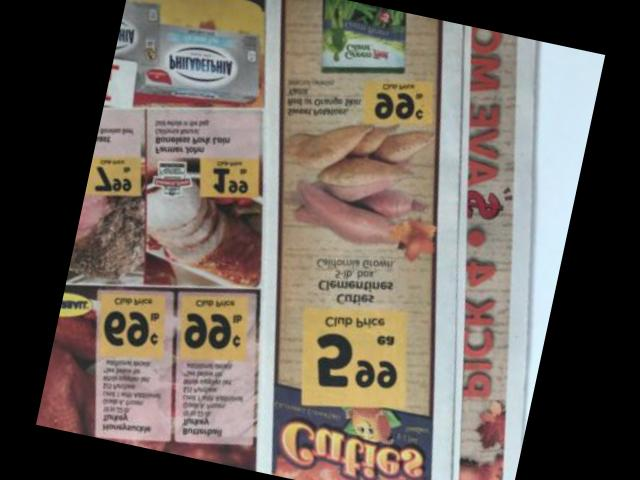cardboard paper: (35, 0, 539, 480)
